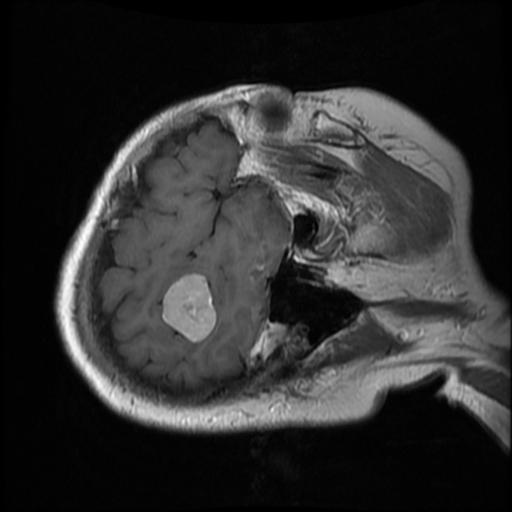meningioma: (161, 272, 217, 341)
